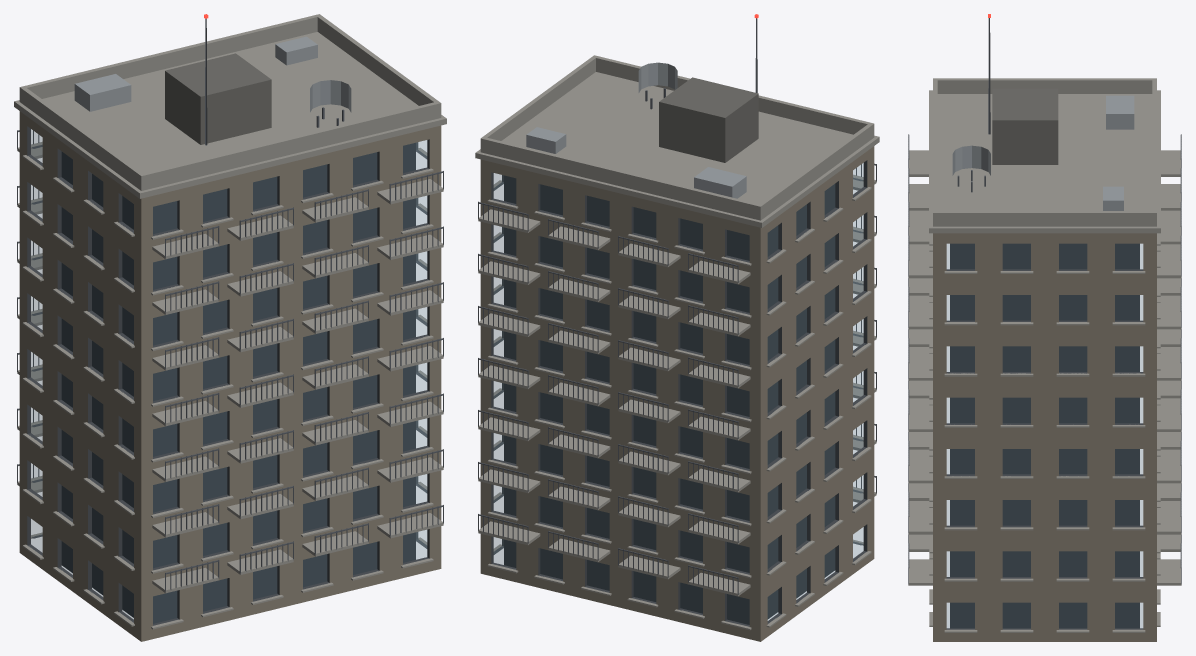
The model's file is apartment-1.glb.
3 renders of one model, left to right at view 1: azimuth 30°, elevation 25°; view 2: azimuth 150°, elevation 25°; view 3: azimuth 270°, elevation 25°, orthographic. The views are drawn at different scales.
Parts seen in each view (by area): view 1: apartment-1; view 2: apartment-1; view 3: apartment-1.
Part boxes in pixels (<box>): apartment-1: <box>14,14,446,641</box>; apartment-1: <box>475,14,879,641</box>; apartment-1: <box>908,14,1181,641</box>.
Size of the model in its own units: 17.31 by 31.33 by 14.51.
